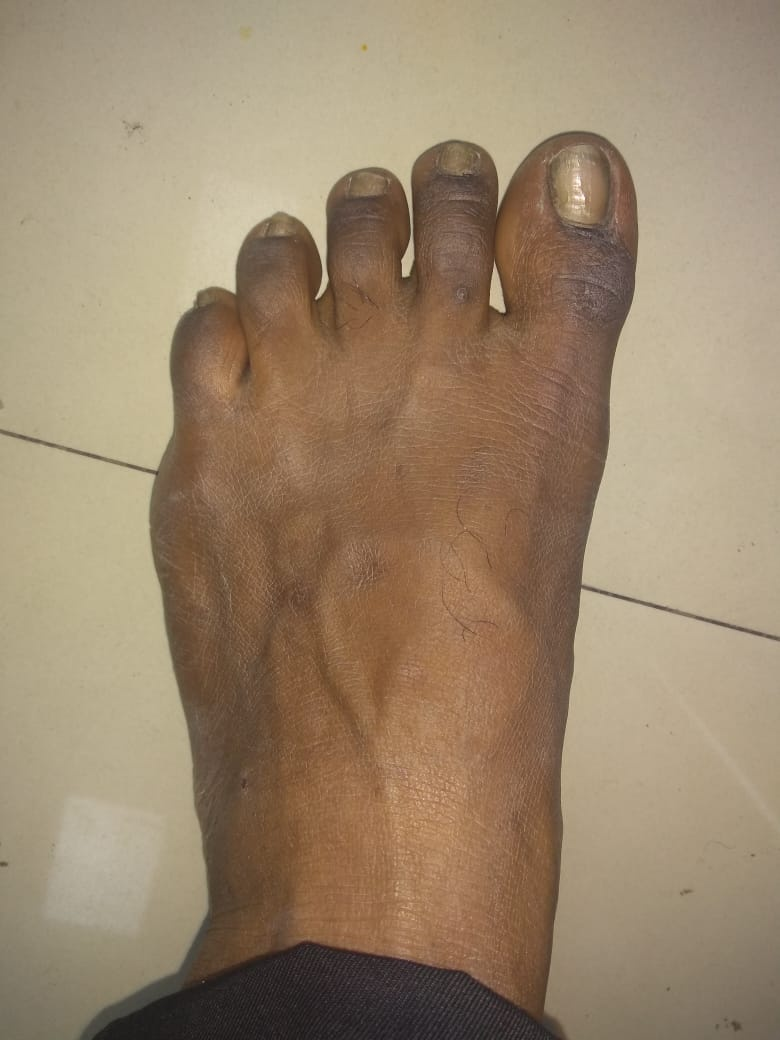feet: (74, 96, 637, 1007)
